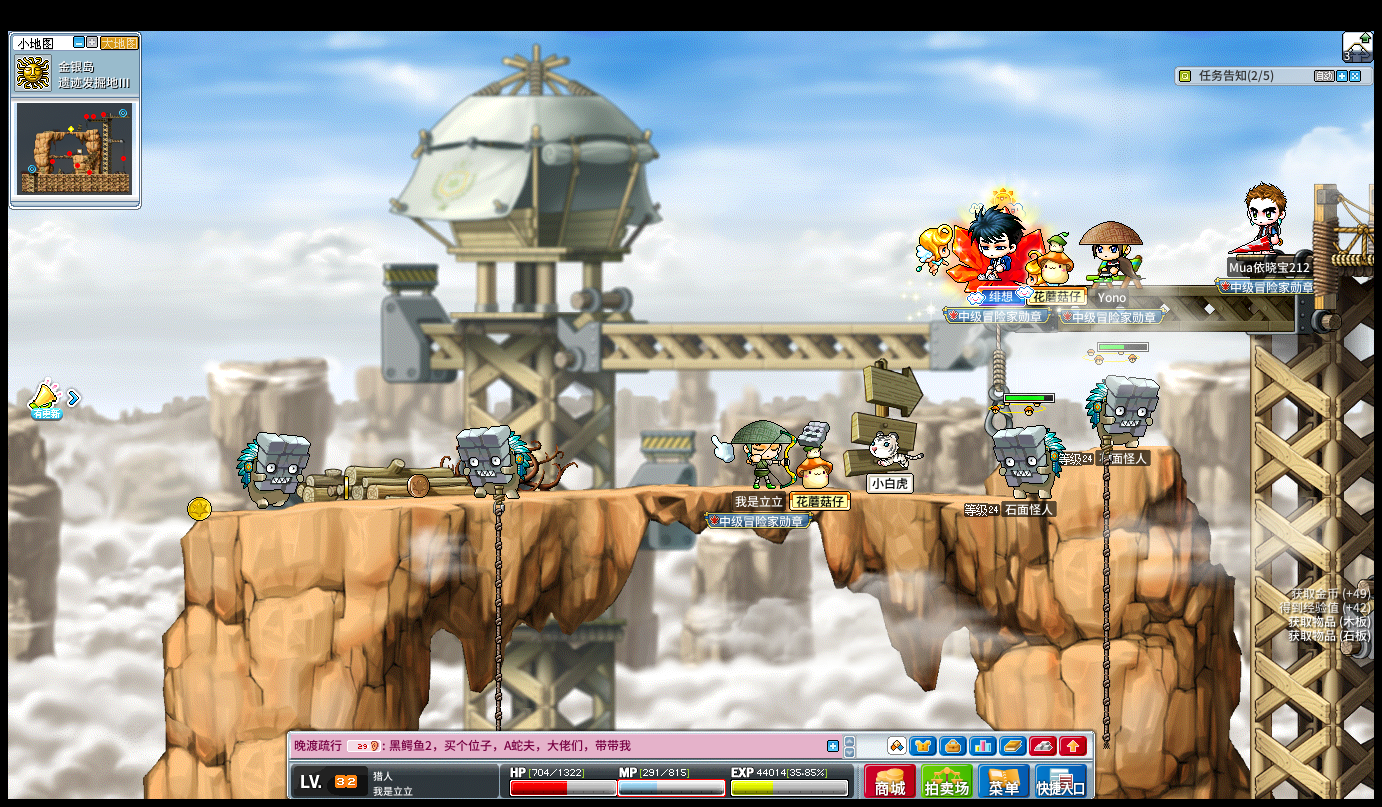floor: (190, 480, 1002, 513), (207, 481, 1079, 504)
monster: (235, 431, 311, 511), (456, 424, 530, 500), (1085, 373, 1160, 446), (992, 423, 1064, 497)
rope: (1098, 449, 1114, 769), (1100, 455, 1114, 645), (491, 481, 504, 685)
